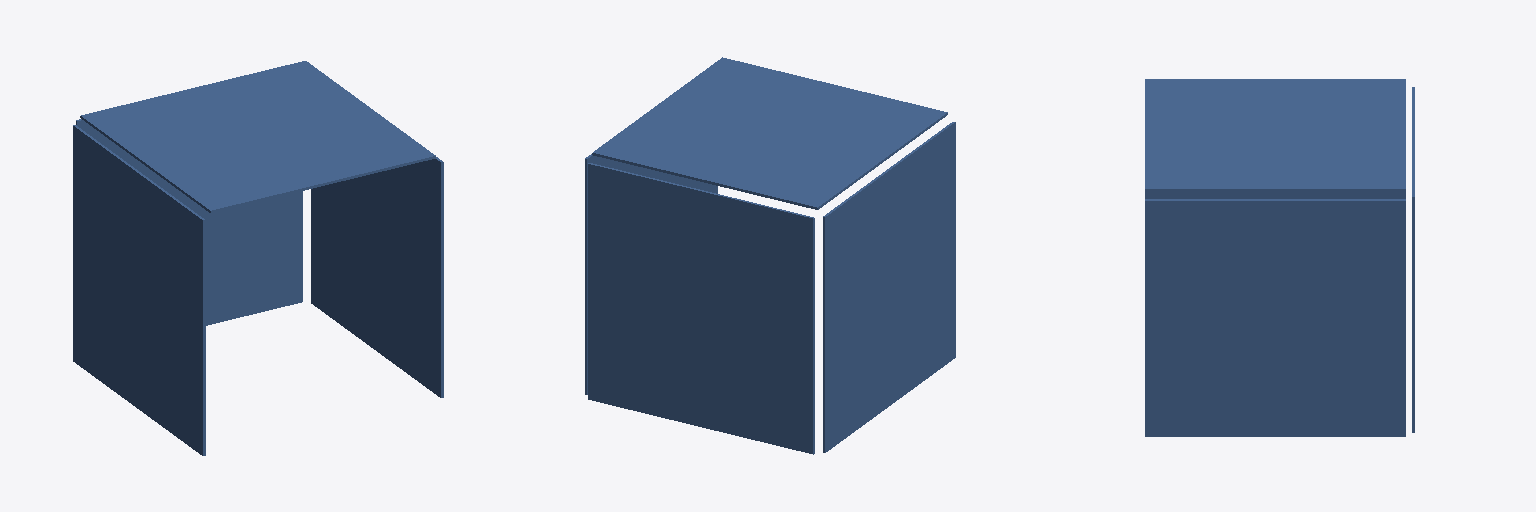
File: prize_cabinet_glass.obj
The picture shows the model from 3 angles: view 1: azimuth 30°, elevation 25°; view 2: azimuth 150°, elevation 25°; view 3: azimuth 270°, elevation 25°; orthographic projection.
Visible parts, largest first — view 1: Cube; view 2: Cube; view 3: Cube.
Boxes of the visible parts, x1,y1,x2,y2 form: Cube: [73, 61, 443, 455]; Cube: [585, 57, 955, 454]; Cube: [1145, 79, 1414, 436].
Size of the model in its own units: 0.96 by 0.93 by 0.93.